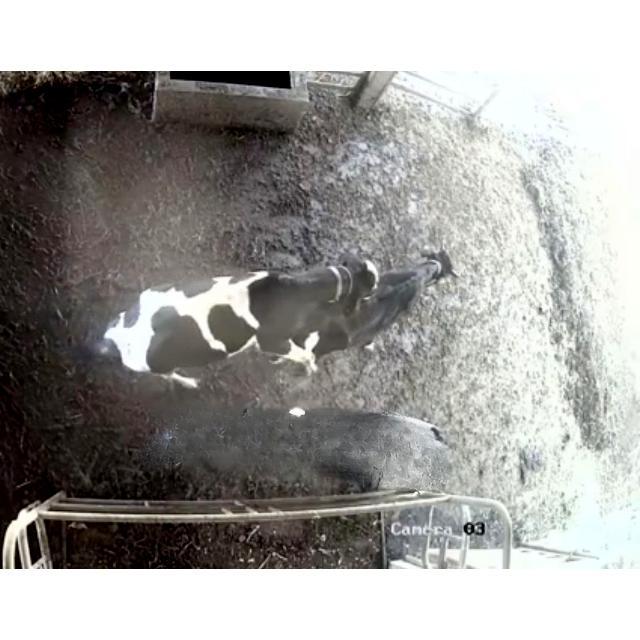ride: (67, 230, 391, 408)
